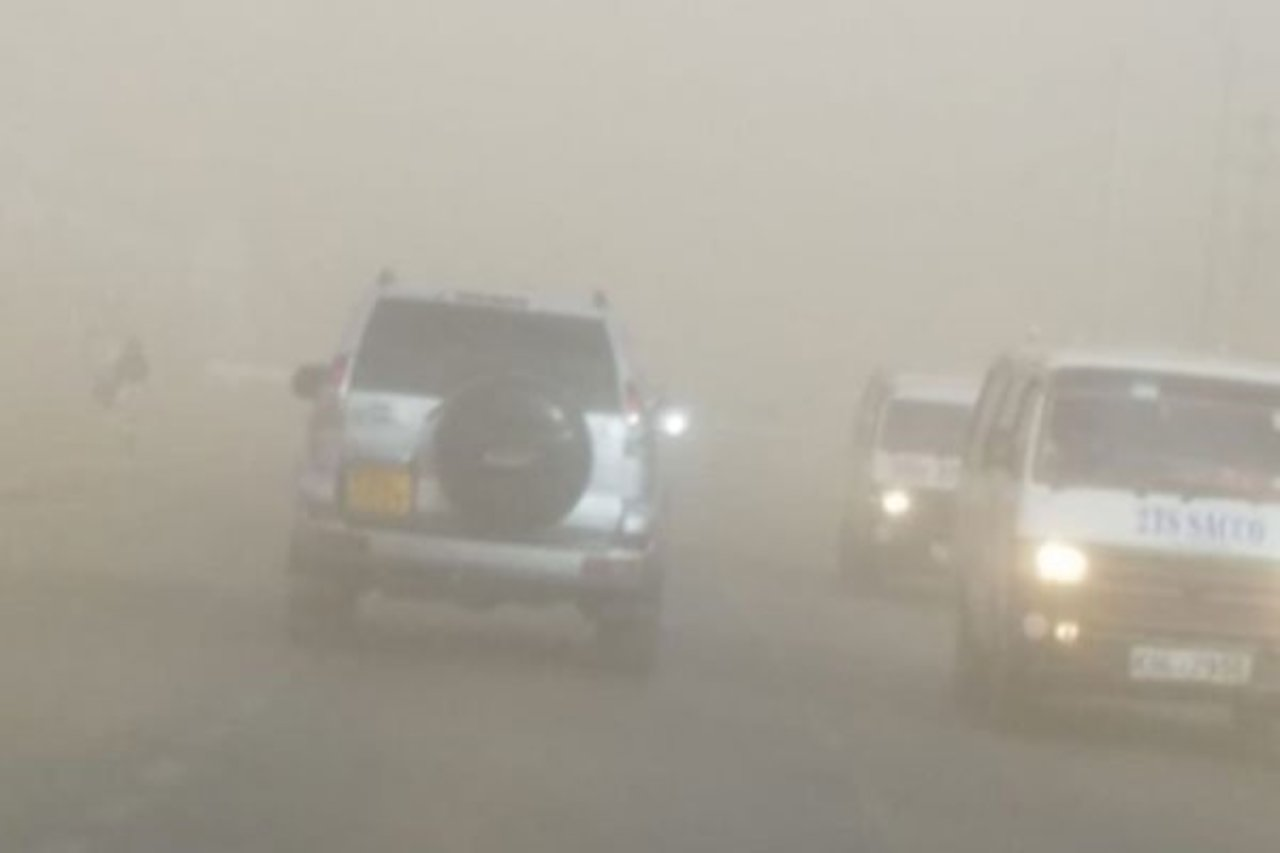car: (300, 280, 676, 660), (965, 348, 1279, 760), (842, 379, 967, 594), (637, 377, 701, 470)
